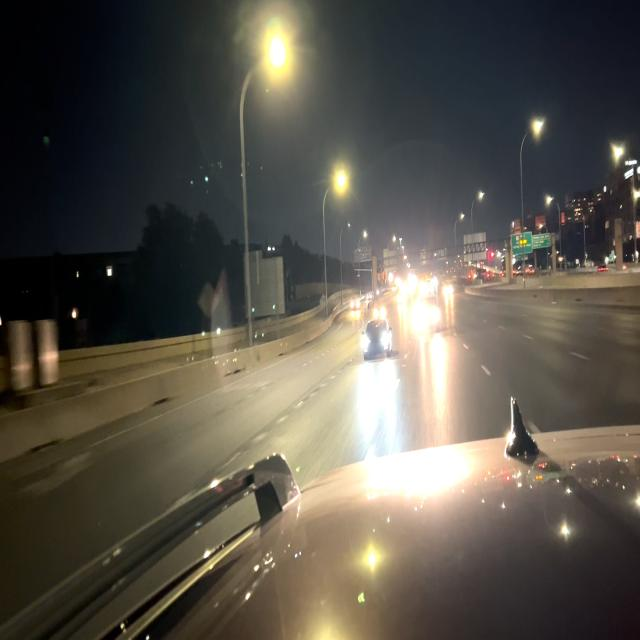back-of-sign: (197, 281, 219, 321), (463, 231, 488, 263), (383, 247, 404, 274)
